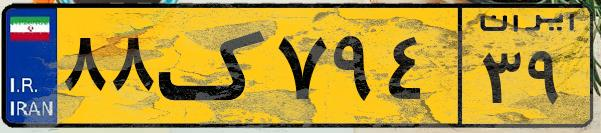3: (475, 38, 525, 113)
4: (385, 28, 445, 110)
7: (270, 28, 330, 110)
8: (57, 26, 110, 100), (110, 28, 158, 98)
9: (330, 28, 385, 110), (525, 38, 570, 115)
ک: (158, 12, 270, 120)
